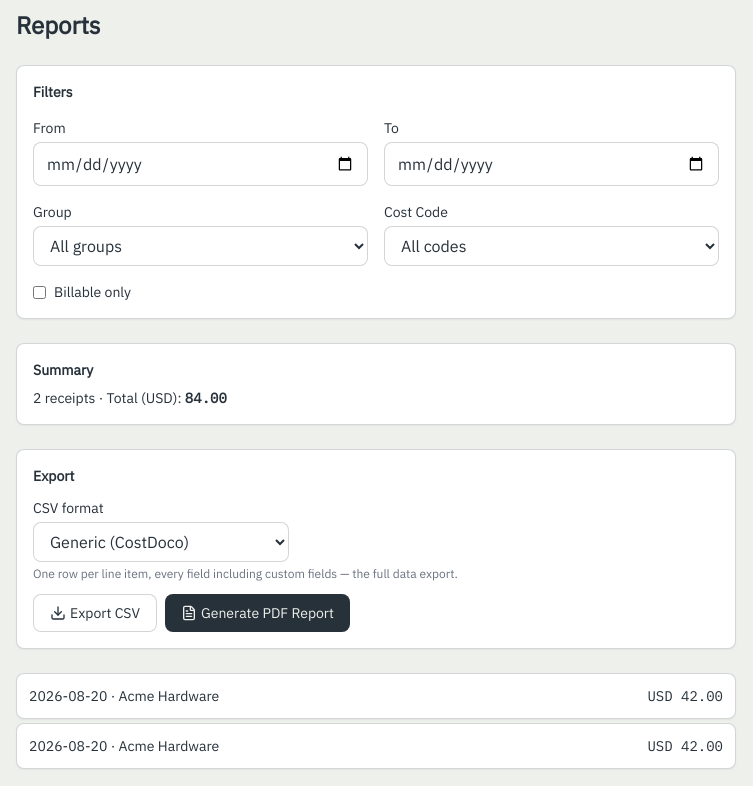
Reports › filters to billable-only receipts
The image size is (753, 786).
Expected: the text "2 receipts · Total (USD): 84.00" is shown, left=33, top=389, right=227, bottom=407
Click the checkbox labelled "Billable only" at point(40, 292), box left=33, top=286, right=46, bottom=298
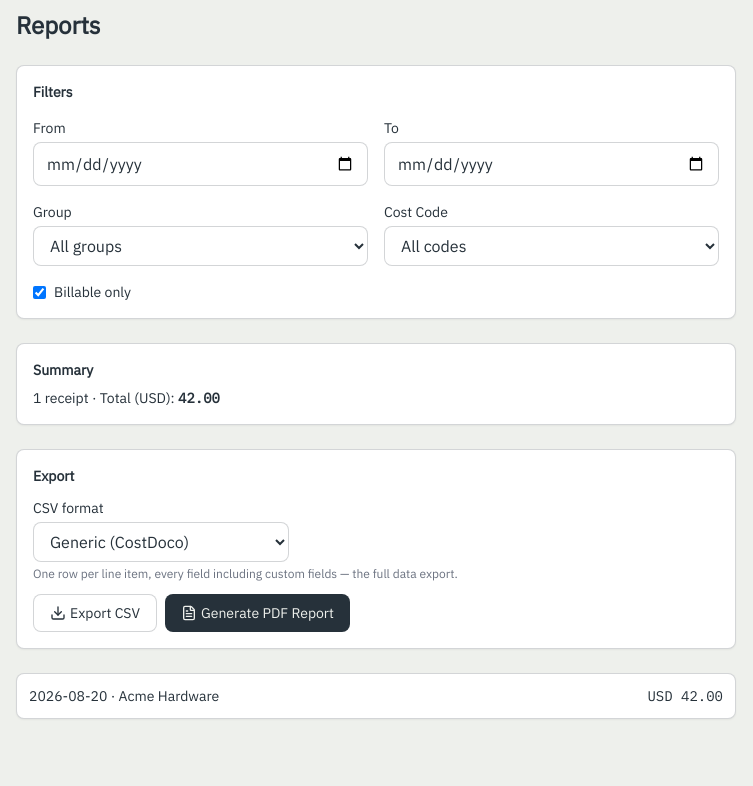
Now the text "1 receipt · Total (USD): 42.00" is shown, box left=33, top=389, right=220, bottom=407
